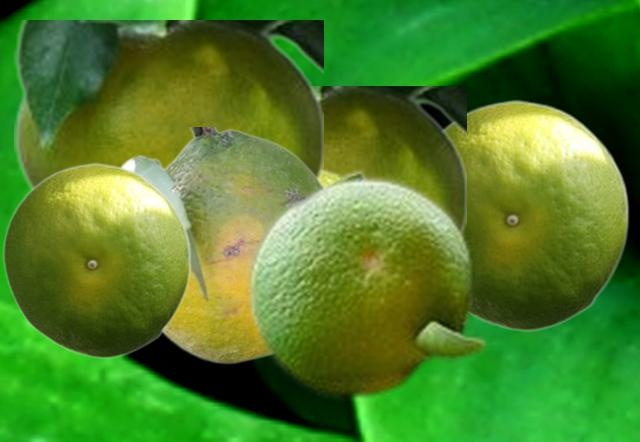dalandan: (244, 172, 490, 399), (14, 20, 322, 191), (118, 127, 321, 363), (444, 99, 628, 331), (2, 162, 190, 358), (315, 86, 465, 227)
